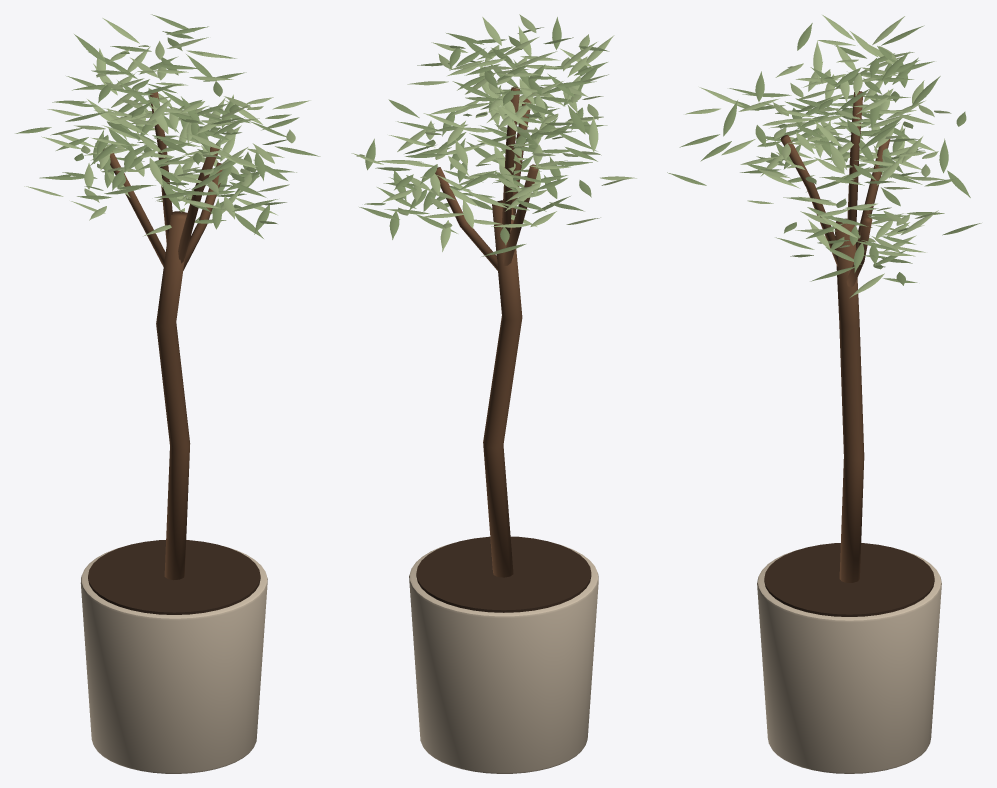
The model's file is plant_olive.glb.
The picture shows the model from 3 angles, left to right: view 1: azimuth 30°, elevation 25°; view 2: azimuth 150°, elevation 25°; view 3: azimuth 270°, elevation 25°; orthographic projection. The views are drawn at different scales.
Parts seen in each view (by area): view 1: cyl, cyl.001, tube, tube.003, tube.002, tube.001, tube.004; view 2: cyl, cyl.001, tube, tube.001, tube.004, tube.002; view 3: cyl, cyl.001, tube, tube.004, tube.003, tube.002.
Part boxes in pixels (bbox=[...]): cyl: bbox=[80, 546, 267, 773]; cyl.001: bbox=[88, 540, 260, 614]; tube: bbox=[156, 211, 190, 580]; tube.003: bbox=[178, 144, 219, 263]; tube.002: bbox=[103, 148, 165, 266]; tube.001: bbox=[183, 162, 222, 270]; tube.004: bbox=[149, 92, 172, 243]; cyl: bbox=[409, 542, 598, 773]; cyl.001: bbox=[416, 536, 591, 612]; tube: bbox=[483, 200, 522, 577]; tube.001: bbox=[435, 167, 498, 271]; tube.004: bbox=[501, 86, 519, 234]; tube.002: bbox=[502, 164, 538, 265]; cyl: bbox=[757, 549, 941, 773]; cyl.001: bbox=[764, 543, 934, 616]; tube: bbox=[835, 218, 864, 582]; tube.004: bbox=[847, 91, 862, 225]; tube.003: bbox=[780, 135, 838, 266]; tube.002: bbox=[856, 139, 890, 250].
Size of the model in its own units: 61.5 by 168 by 68.42.
